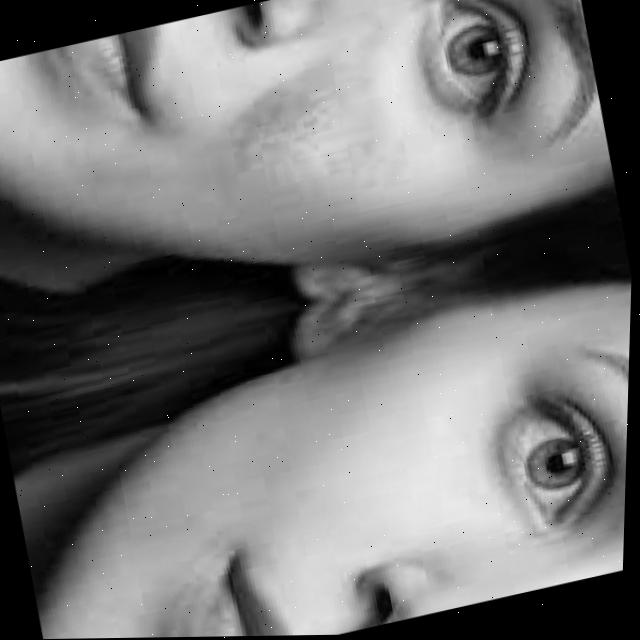Rosacea: (208, 62, 386, 209)
